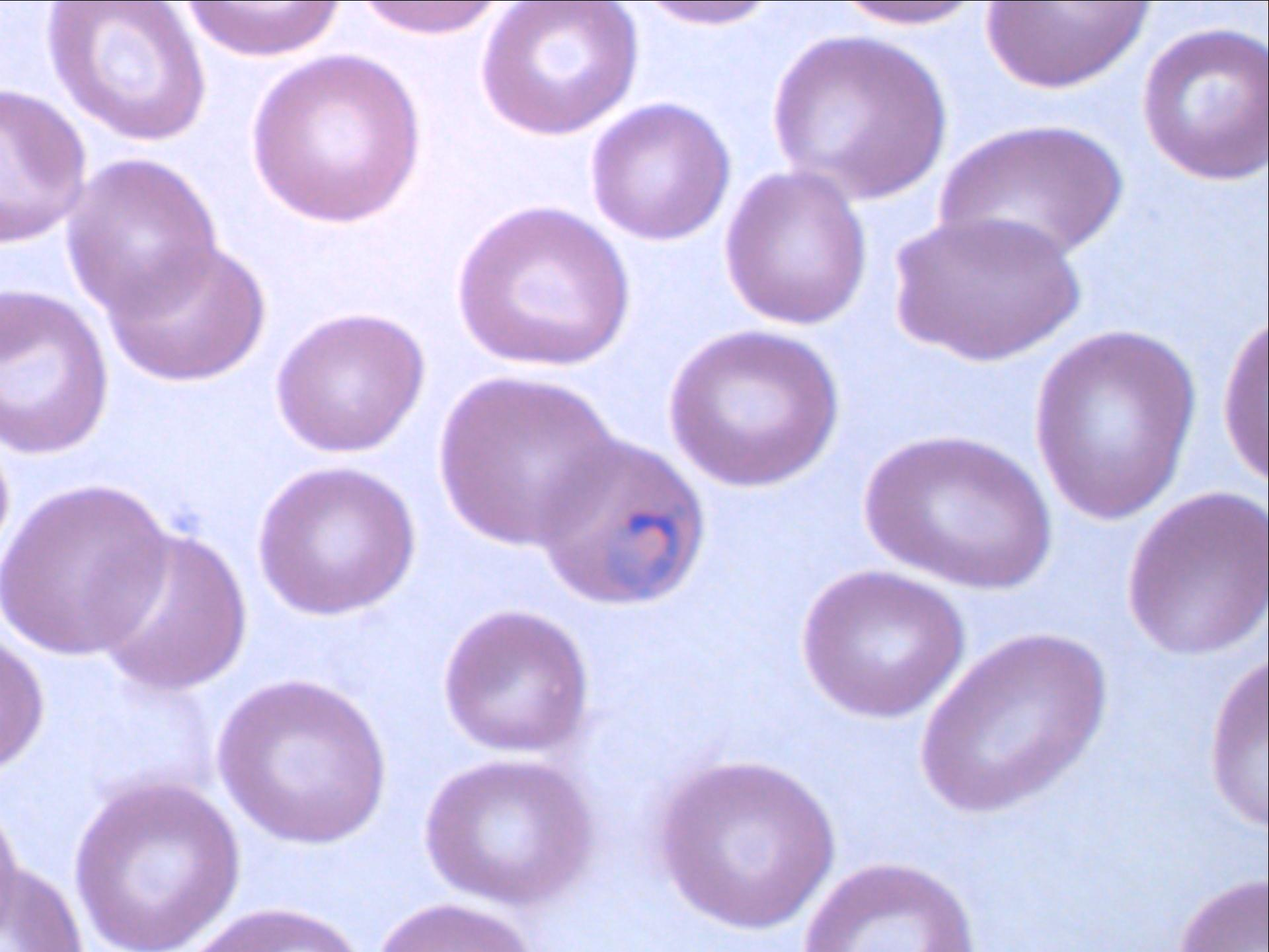Infected: (550, 441, 703, 601)
Uninfected: (920, 636, 1103, 807), (1038, 331, 1193, 520), (444, 380, 614, 540), (0, 486, 164, 651), (254, 53, 416, 218), (669, 765, 834, 927), (216, 681, 380, 841), (867, 443, 1045, 588), (74, 787, 235, 947), (894, 222, 1079, 361), (775, 38, 938, 194), (942, 129, 1120, 269), (463, 208, 622, 363), (673, 334, 835, 485), (63, 159, 216, 316), (93, 537, 241, 687), (808, 570, 959, 713), (1134, 494, 1269, 653), (259, 471, 410, 612), (725, 175, 864, 324), (50, 0, 200, 137), (430, 765, 582, 897), (484, 2, 638, 132), (109, 250, 258, 380), (279, 316, 420, 452), (1143, 30, 1269, 180), (449, 613, 582, 748), (595, 104, 728, 238), (0, 296, 105, 450)
